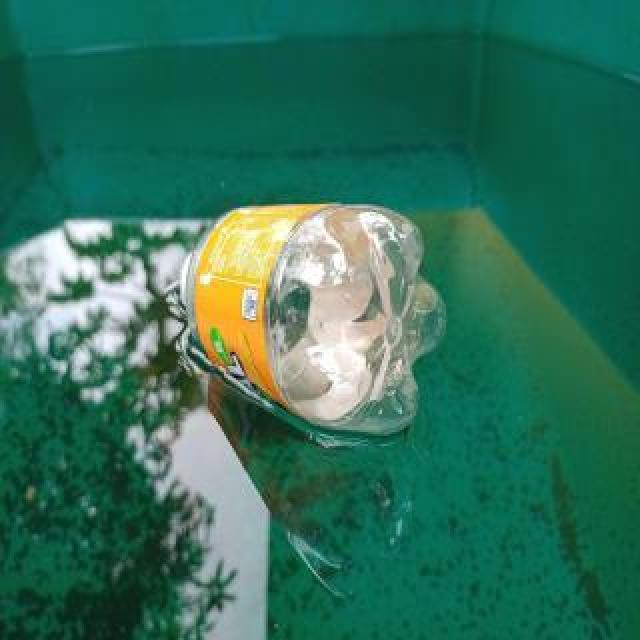bottle: (178, 198, 452, 438)
